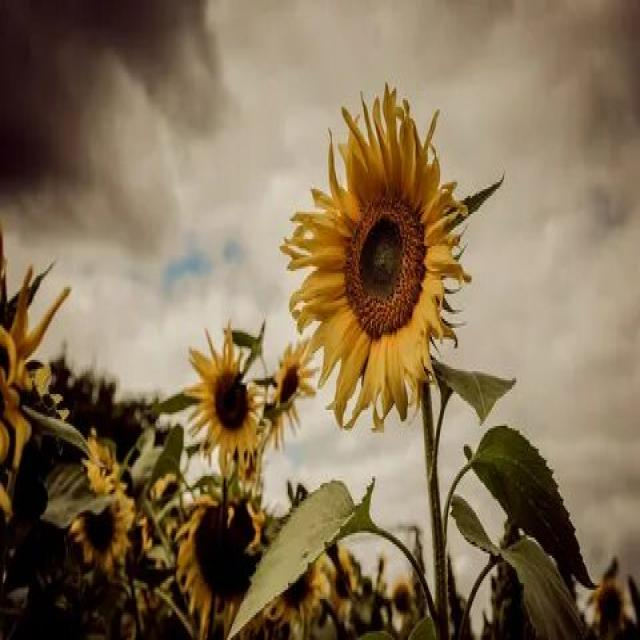sunflower: (283, 80, 480, 430), (179, 328, 265, 483), (172, 489, 262, 620), (72, 479, 135, 574), (273, 339, 316, 454)
